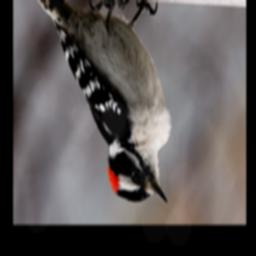Woodpecker: (36, 0, 173, 203)
